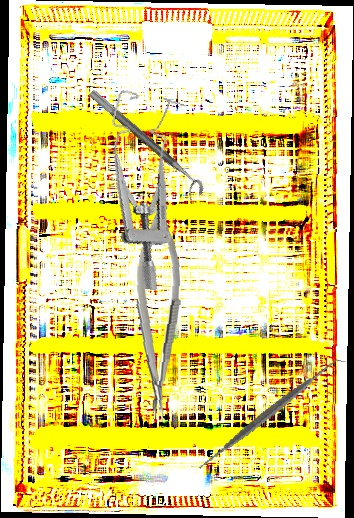Fixation Ring: (80, 88, 208, 204)
Needle Holder: (128, 204, 186, 424)
Spatula Surgical: (190, 334, 347, 494)
Speculum: (76, 87, 202, 292)
